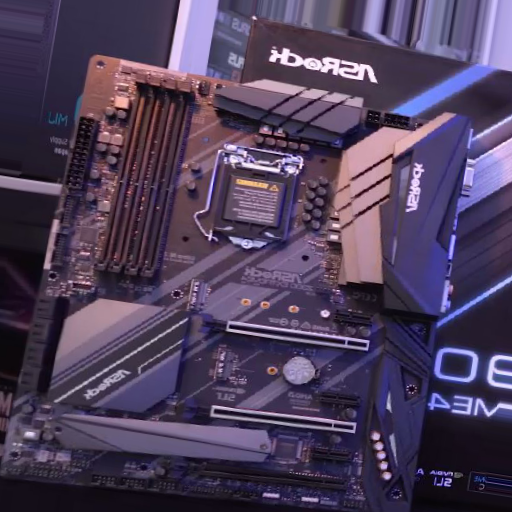CPU: (205, 152, 299, 251)
GPU: (182, 395, 357, 438), (199, 312, 370, 353), (176, 457, 350, 493)
MOTHERBOARD: (15, 50, 474, 507)
RAM: (93, 72, 195, 287)
SSD: (211, 343, 238, 383), (187, 276, 211, 313)
